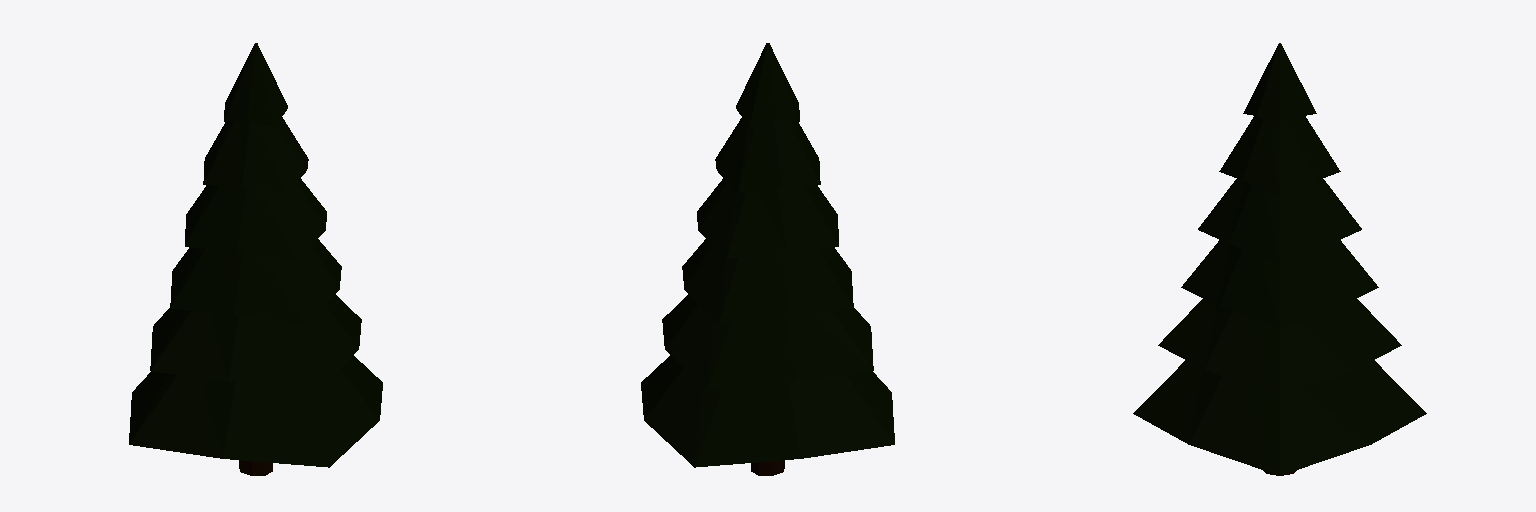
The model's file is PineTreeV1.obj.
The picture shows the model from 3 angles: view 1: azimuth 30°, elevation 25°; view 2: azimuth 150°, elevation 25°; view 3: azimuth 270°, elevation 25°; orthographic projection.
Parts seen in each view (by area): view 1: Cylinder; view 2: Cylinder; view 3: Cylinder.
Part boxes in pixels (x1,y1,x2,y2): Cylinder: (129, 43, 382, 475); Cylinder: (641, 43, 894, 475); Cylinder: (1133, 43, 1426, 475).
Bounding box in the file's own units: 4.36 × 6.97 × 4.36.